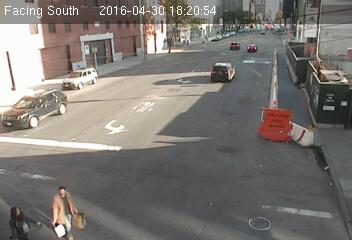neg: (263, 105, 289, 139)
